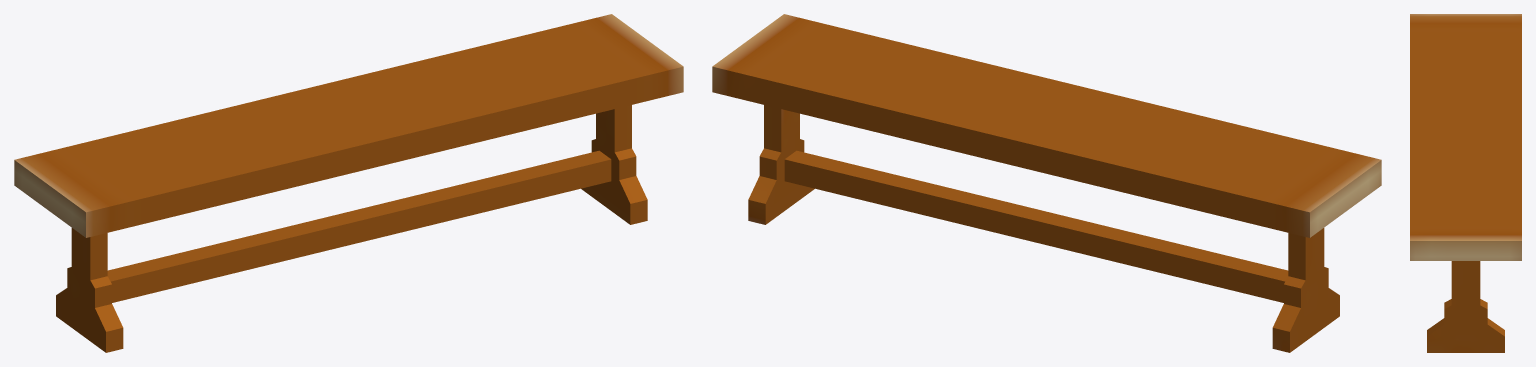
The model's file is kit-bench.glb.
The picture shows the model from 3 angles, left to right: view 1: azimuth 30°, elevation 25°; view 2: azimuth 150°, elevation 25°; view 3: azimuth 270°, elevation 25°; orthographic projection. The views are drawn at different scales.
Visible parts, largest first — view 1: Cube.329; view 2: Cube.329; view 3: Cube.329.
Part boxes in pixels (bbox=[...]): Cube.329: bbox=[14, 14, 683, 352]; Cube.329: bbox=[712, 14, 1381, 352]; Cube.329: bbox=[1410, 14, 1521, 352].
Bounding box in the file's own units: 1.85 × 0.4622 × 0.3855.
Materials: 1 (1 with a texture image).
